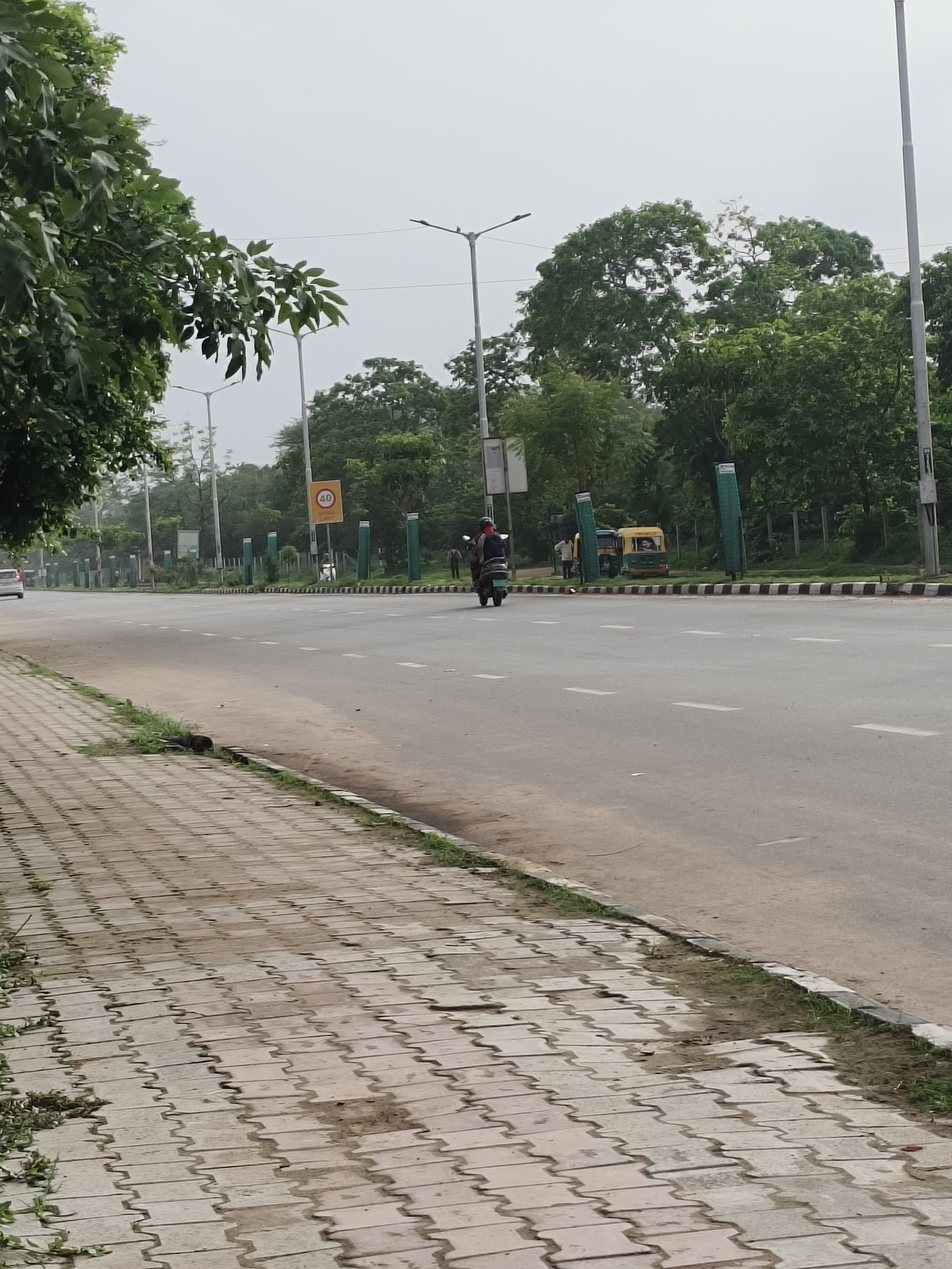BikeWithRider: (458, 513, 526, 610)
